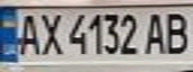1: (84, 10, 106, 55)
2: (118, 10, 142, 56)
3: (103, 10, 124, 55)
4: (63, 10, 87, 55)
A: (12, 10, 42, 56), (142, 10, 172, 56)
B: (160, 9, 193, 55)
X: (36, 9, 66, 56)
